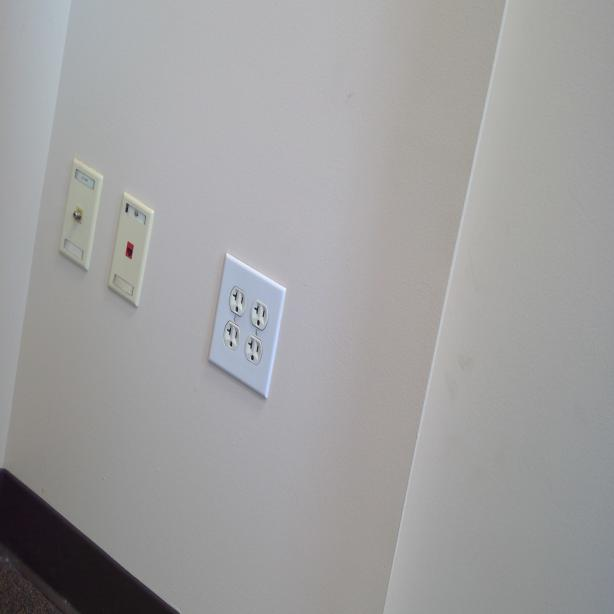typeb: (251, 296, 267, 328), (230, 288, 247, 316), (246, 336, 261, 364), (225, 324, 240, 350)
